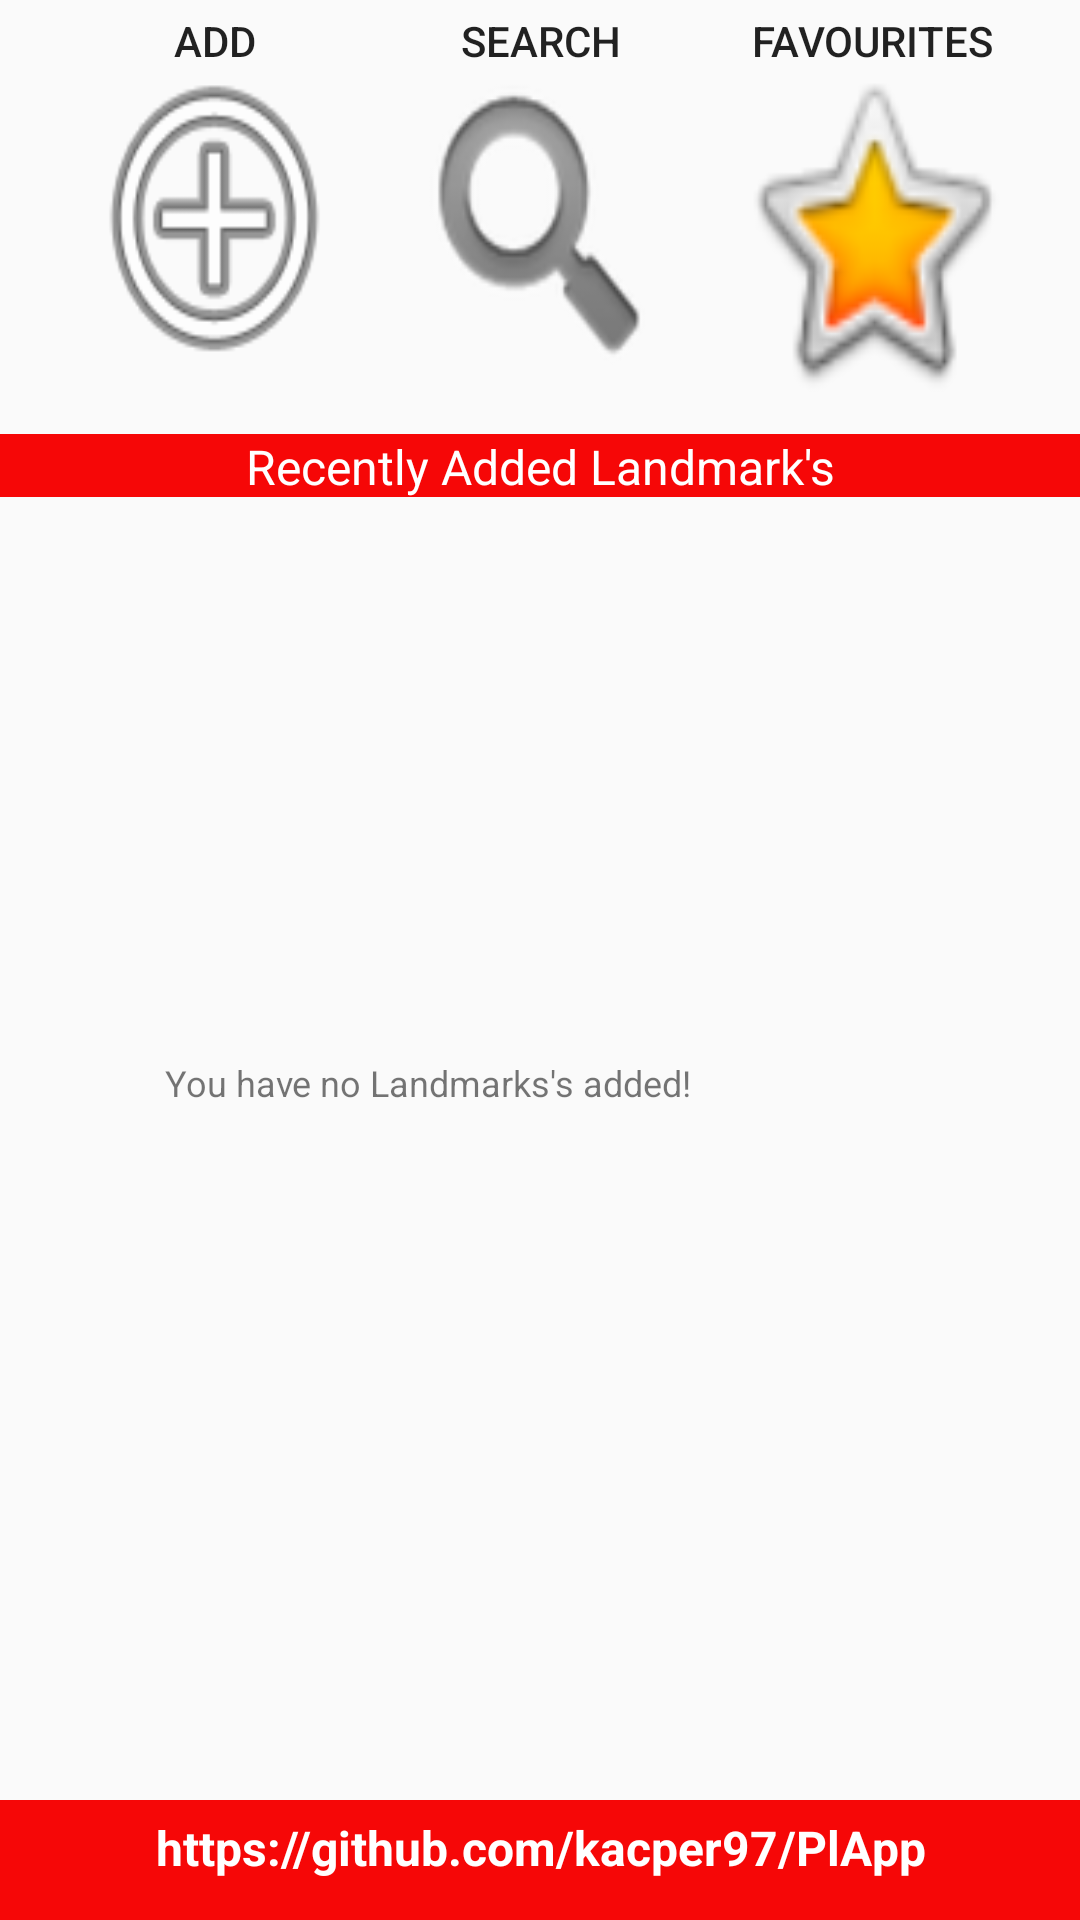

Screen size 1080*1920. Icon name, then its box in pixels as (x1, y1, x2, y2):
star on: (758, 88, 992, 379)
